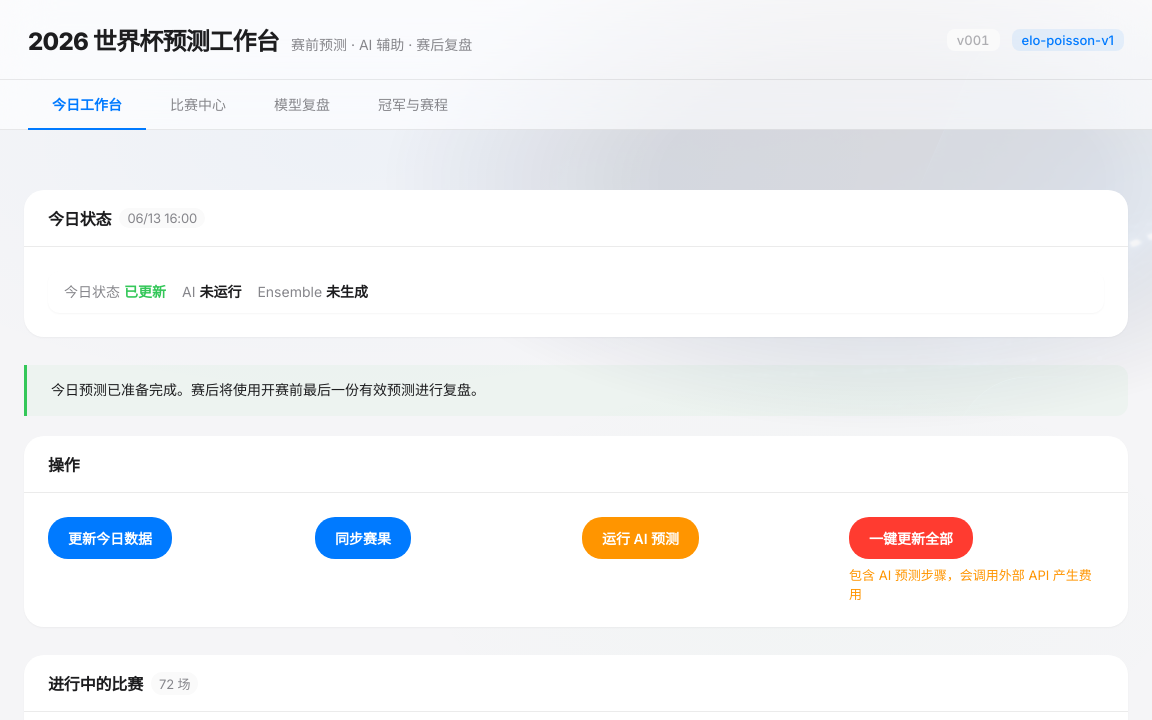
Test: shows sourced profile data label in profile evaluation
The width and height of the screenshot is (1152, 720).
Click the tab "模型复盘": (302,105) x1=250 y1=80 x2=354 y2=130
(page scrolled)
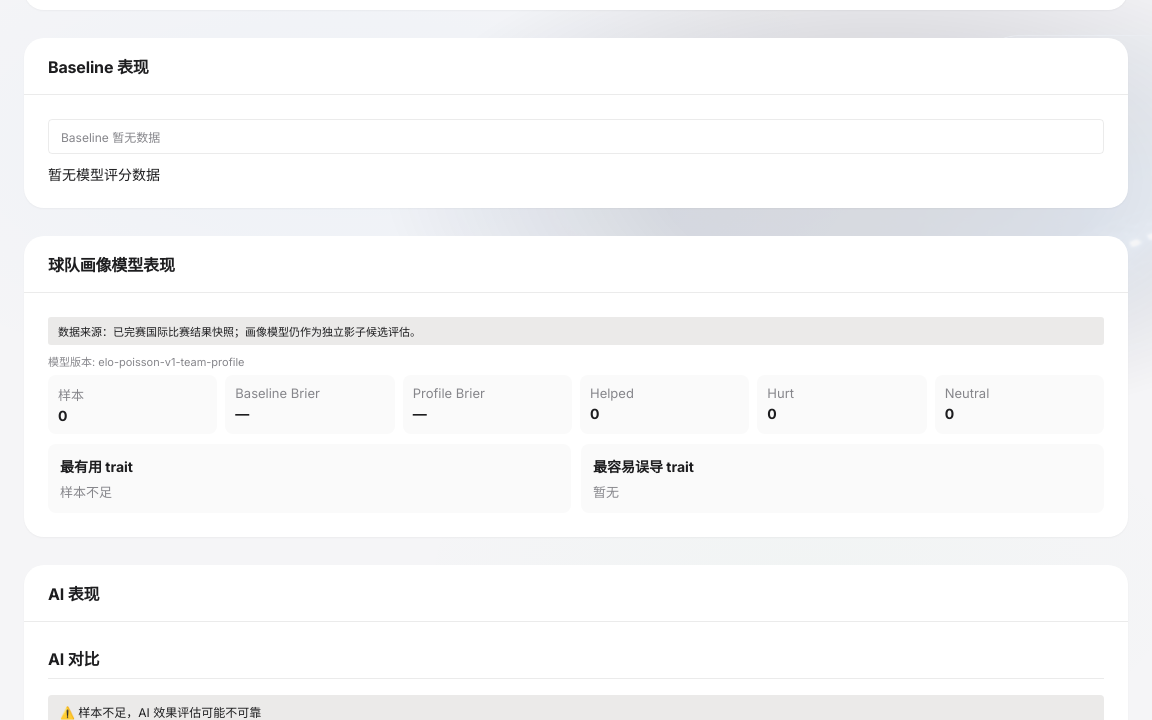
Result: the text "模型版本: elo-poisson-v1-team-profile" is shown at x1=48 y1=355 x2=244 y2=369
